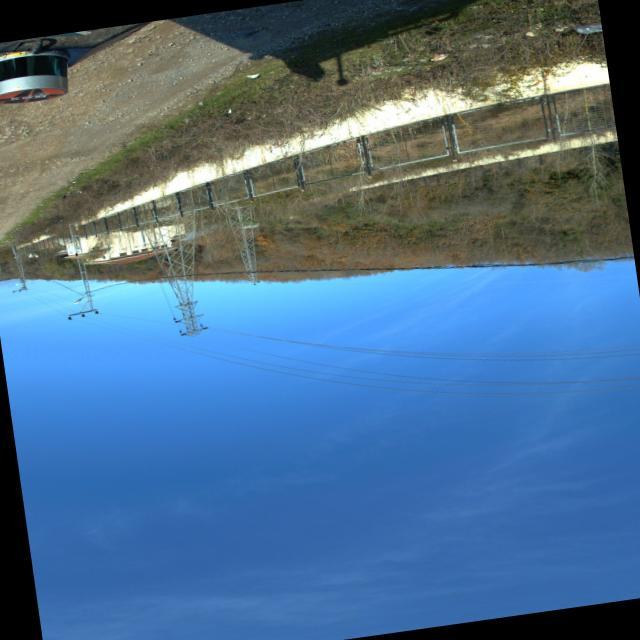Utility Pole Information Plate: (75, 252, 77, 255)
